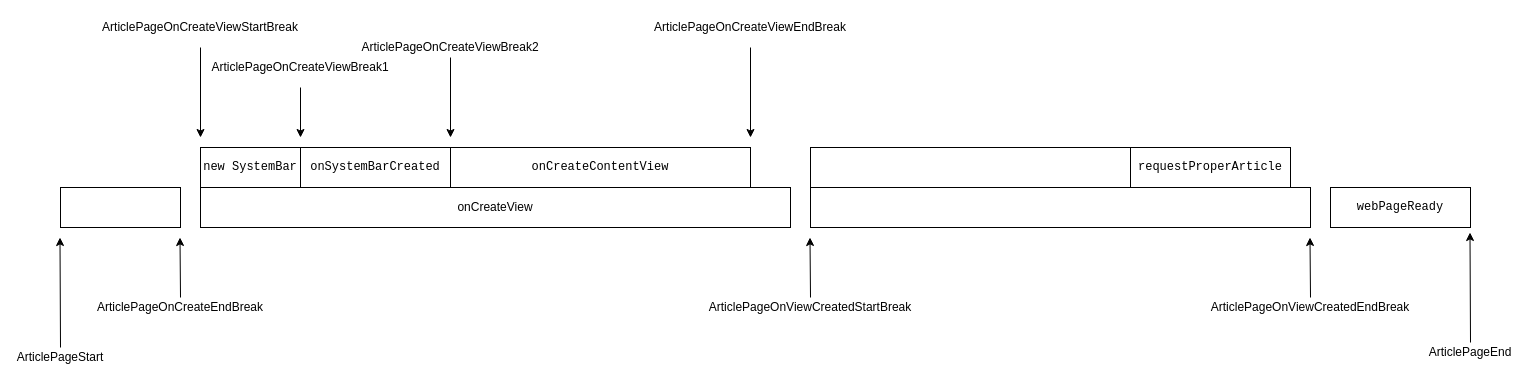
Some shapes in this 1529 by 384 pixel diagram are drawn without their labels. The centre of each missing label's shape, as x and y in pixels:
"initAppView" belongs at point 970,167.
"onCreate" belongs at point 120,207.
"onViewCreated" belongs at point 1060,207.
